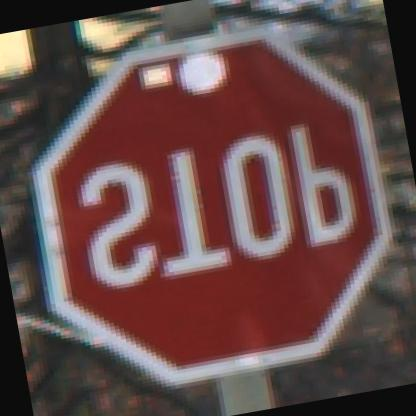stop: (1, 13, 415, 415)
